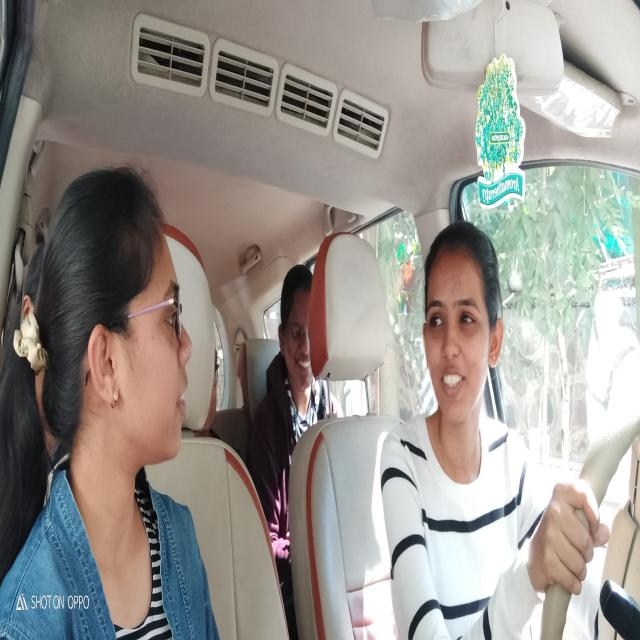LeftRight: (421, 218, 505, 438)
person: (32, 160, 193, 506), (277, 258, 322, 402)
talking: (174, 366, 190, 431), (439, 360, 465, 400)
